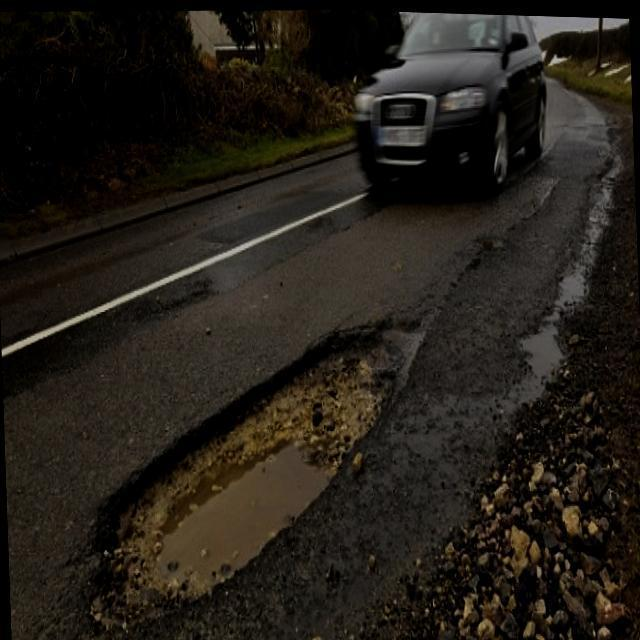Pothole: (83, 311, 431, 635)
